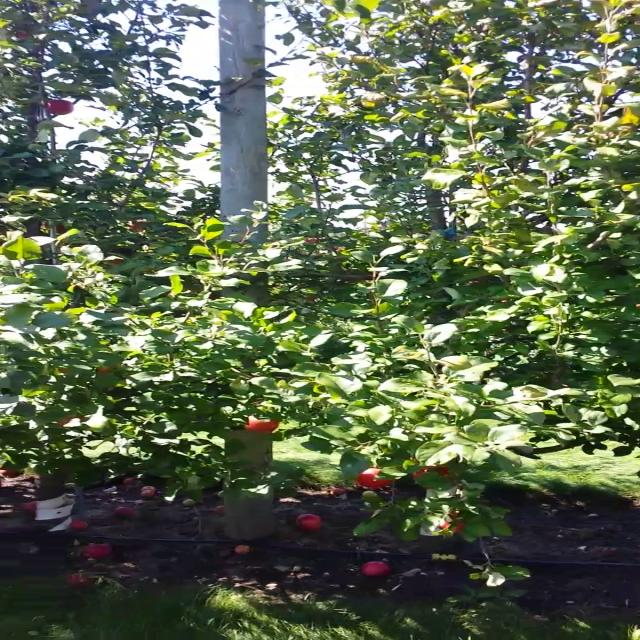apple: (357, 468, 394, 490), (244, 413, 278, 436), (437, 512, 467, 534), (412, 465, 449, 481), (44, 100, 74, 116), (58, 415, 79, 427), (16, 33, 30, 39), (99, 368, 113, 374)
